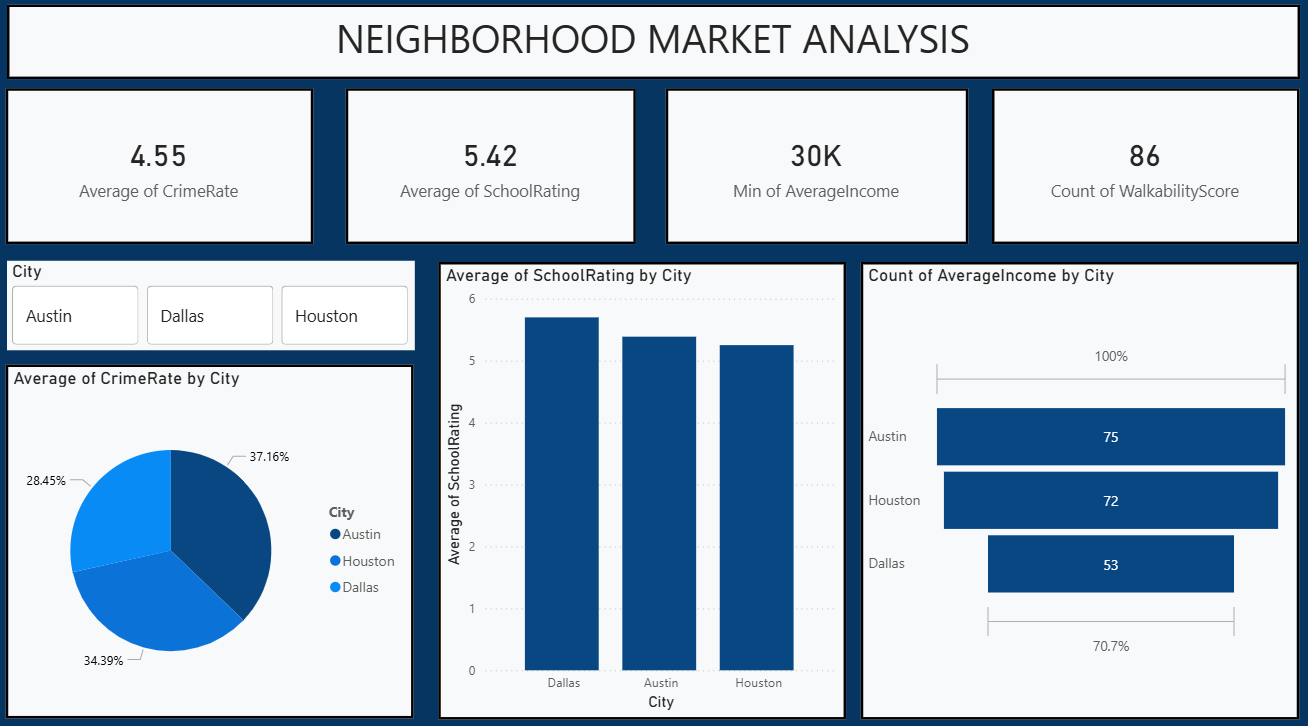

This screenshot's page, from the dashboard's own definition file:
{"tool":"powerbi","page":{"name":"NEIGHBOR","canvas":[1280,720],"ordinal":6},"visuals":[{"type":"card","fields":{"Values":["Avg(Neighborhoods.CrimeRate)"]},"box":[18.3,93.3,296.7,150],"z":0},{"type":"textbox","box":[18.8,11.5,1248,72.1],"z":1000},{"type":"card","fields":{"Values":["Avg(Neighborhoods.SchoolRating)"]},"box":[346.7,93.3,280,150],"z":2000},{"type":"card","fields":{"Values":["Min(Neighborhoods.AverageIncome)"]},"box":[655,93.3,291.7,150],"z":3000},{"type":"card","fields":{"Values":["Count(Neighborhoods.WalkabilityScore)"]},"box":[970,93.3,296.7,150],"z":4000},{"type":"pieChart","fields":{"Category":["Neighborhoods.City"],"Y":["Avg(Neighborhoods.CrimeRate)"]},"box":[18.3,360,393.3,341.7],"z":5000},{"type":"columnChart","fields":{"Category":["Neighborhoods.City"],"Y":["Avg(Neighborhoods.SchoolRating)"]},"box":[435,260,393.3,441.7],"z":6000},{"type":"funnel","fields":{"Category":["Neighborhoods.City"],"Y":["CountNonNull(Neighborhoods.AverageIncome)"]},"box":[843.3,260,423.3,441.7],"z":7000},{"type":"advancedSlicerVisual","fields":{"Values":["Neighborhoods.City"]},"box":[18.8,259.7,393.9,86.6],"z":8000}]}

Visuals, with their boxes in screenshot pixels (x1, y1, x2, y2), scaled from the page's 1280x720 canvas onto the 1308x726 screenshot:
card - Avg(Neighborhoods.CrimeRate): {"left": 19, "top": 94, "right": 322, "bottom": 245}
textbox: {"left": 19, "top": 12, "right": 1295, "bottom": 84}
card - Avg(Neighborhoods.SchoolRating): {"left": 354, "top": 94, "right": 640, "bottom": 245}
card - Min(Neighborhoods.AverageIncome): {"left": 669, "top": 94, "right": 967, "bottom": 245}
card - Count(Neighborhoods.WalkabilityScore): {"left": 991, "top": 94, "right": 1294, "bottom": 245}
pieChart - Neighborhoods.City x Avg(Neighborhoods.CrimeRate): {"left": 19, "top": 363, "right": 421, "bottom": 708}
columnChart - Neighborhoods.City x Avg(Neighborhoods.SchoolRating): {"left": 445, "top": 262, "right": 846, "bottom": 708}
funnel - Neighborhoods.City x CountNonNull(Neighborhoods.AverageIncome): {"left": 862, "top": 262, "right": 1294, "bottom": 708}
advancedSlicerVisual - Neighborhoods.City: {"left": 19, "top": 262, "right": 422, "bottom": 349}
